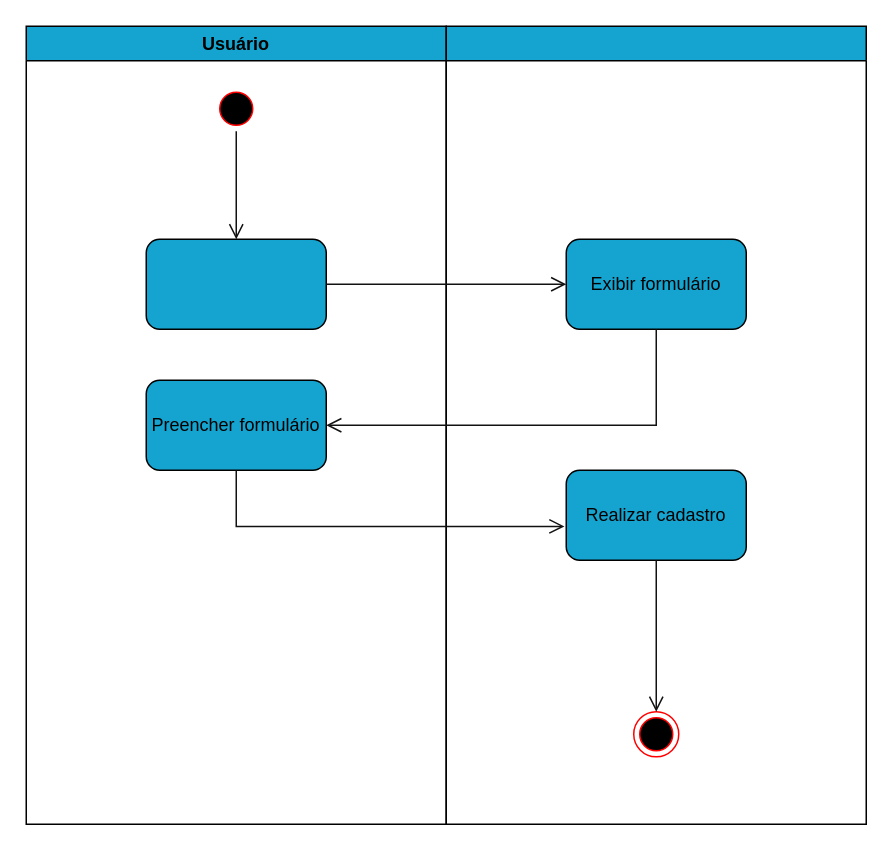
This 893x851 diagram has some shape labels left out. The box of each missing label's shape, as (x1, y1, x2, y2) in pixels:
Fazer cadastro: (145, 238, 326, 329)
UniShop: (445, 25, 866, 824)
